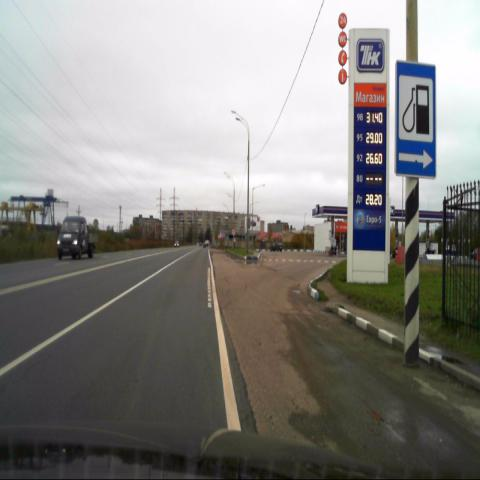7_3: (396, 62, 436, 177)
